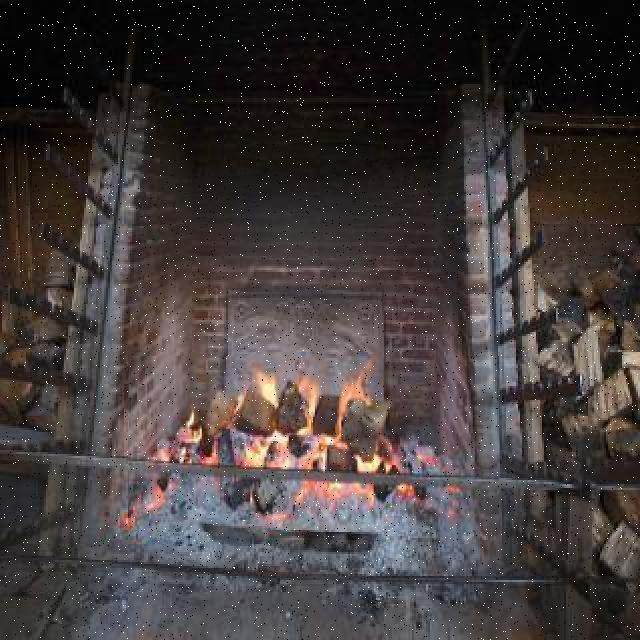fire: (128, 356, 499, 532)
